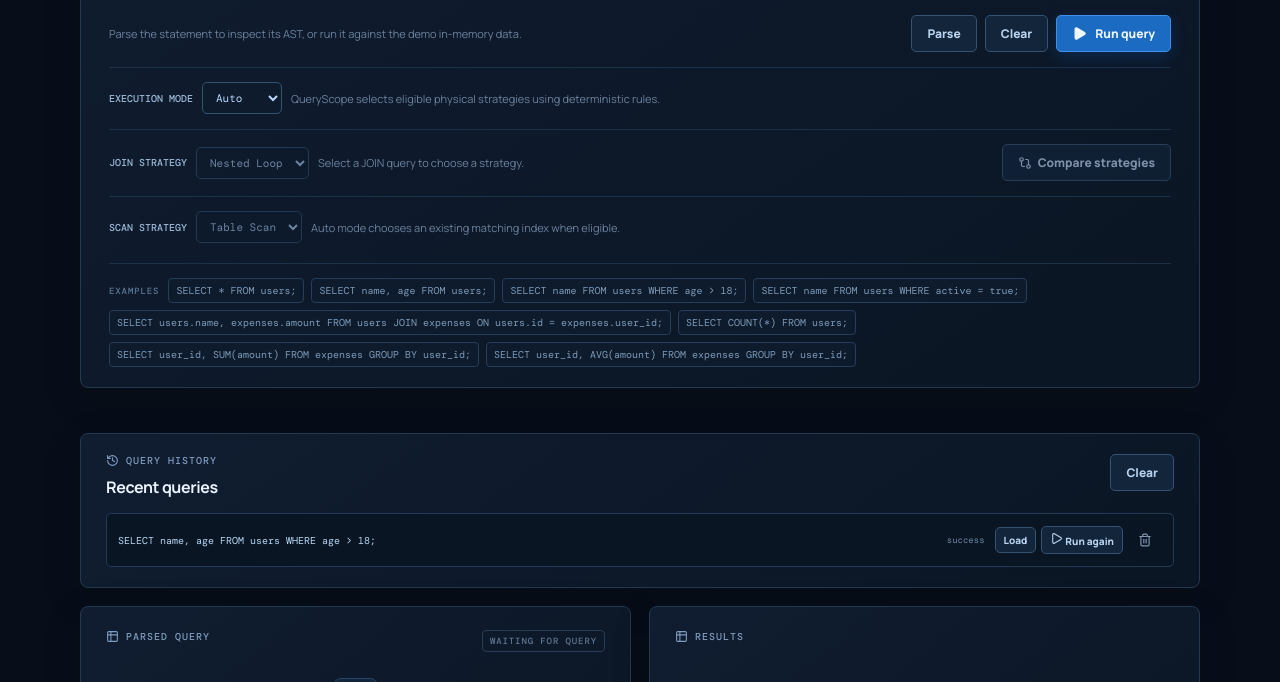
Scenario: App › loads the JOIN example and renders a branching plan
(page scrolled)
Click the button "SELECT users.name, expenses.amount". click: (390, 323)
box: x1=109 y1=310 x2=671 y2=335
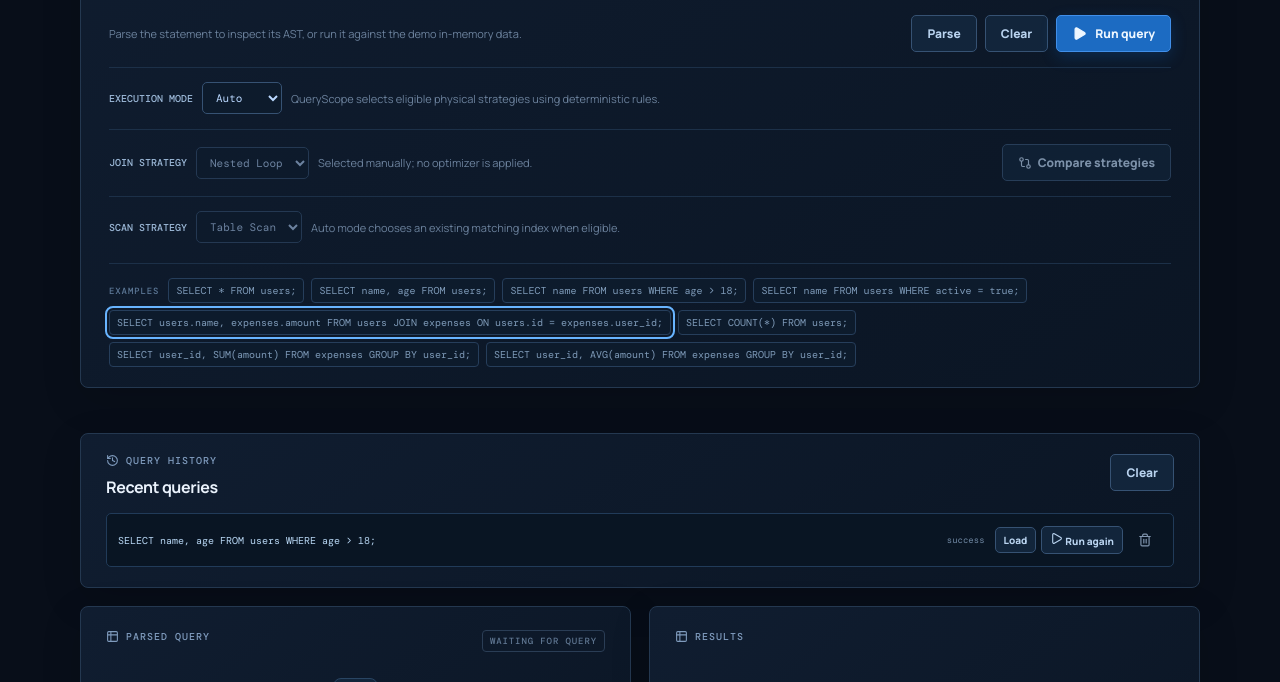
Click the button "Run query". click: (1114, 34)
box: x1=1056 y1=15 x2=1171 y2=52
(page scrolled)
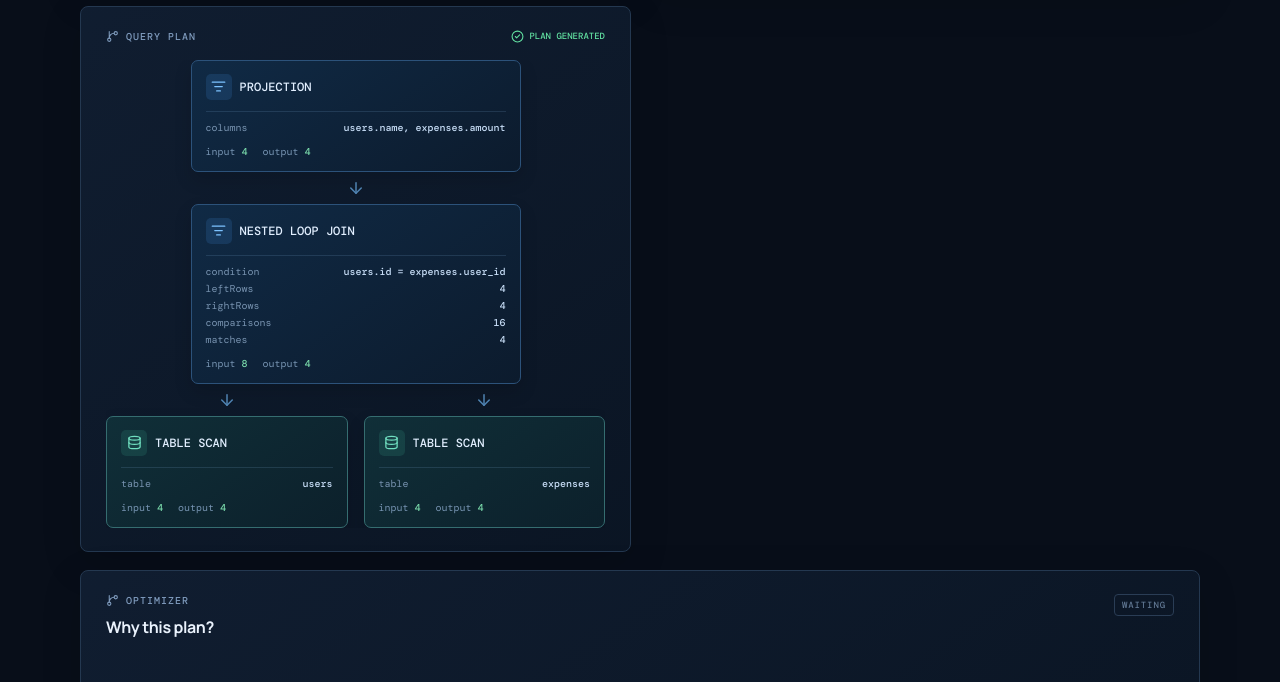
expect the text "NESTED LOOP JOIN" is shown: met, box x1=240 y1=223 x2=355 y2=239
expect the text "TABLE SCAN" is shown 2 times: met, box x1=155 y1=435 x2=227 y2=451; x1=412 y1=435 x2=484 y2=451
expect the text "comparisons" is shown: met, box x1=206 y1=316 x2=272 y2=329
